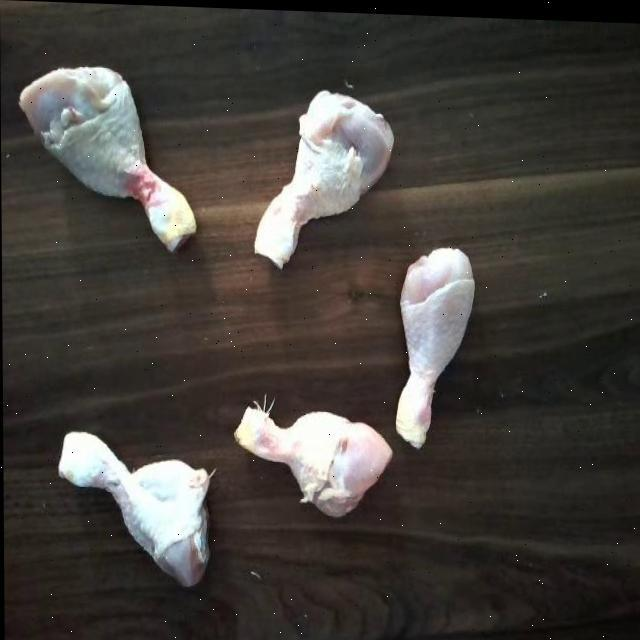leg: (21, 56, 196, 251), (250, 74, 394, 276), (54, 418, 211, 583), (234, 384, 392, 526), (388, 232, 478, 452)
